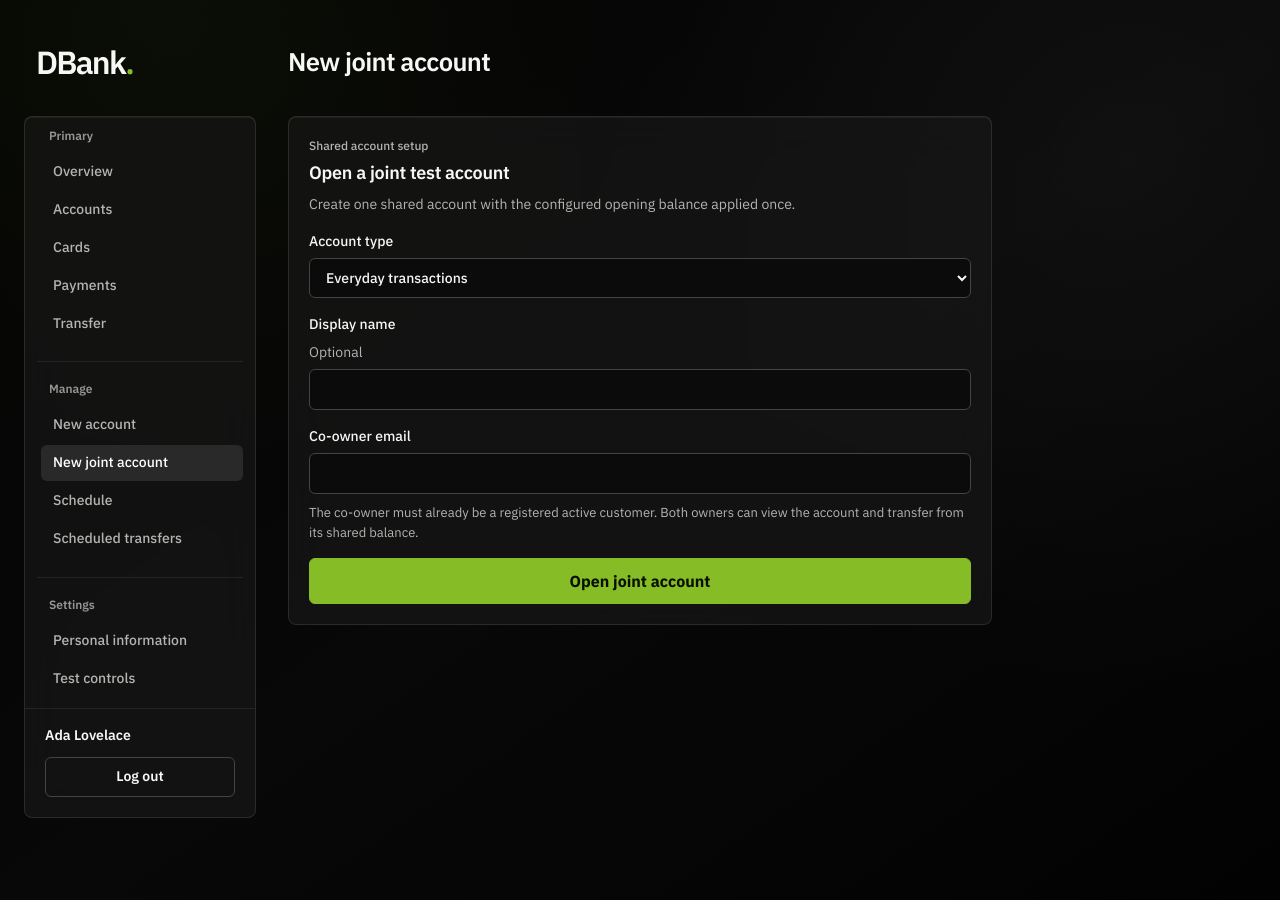
Scenario: Dashboard banking functions › shows an accessible API error and retains joint form values for correction
The width and height of the screenshot is (1280, 900).
Check: the form with test id "joint-account-create-form" is shown, box [309,231,971,604]
In the field with test id "joint-account-create-display-name": (640, 390) [309,369,971,410], type "Household"
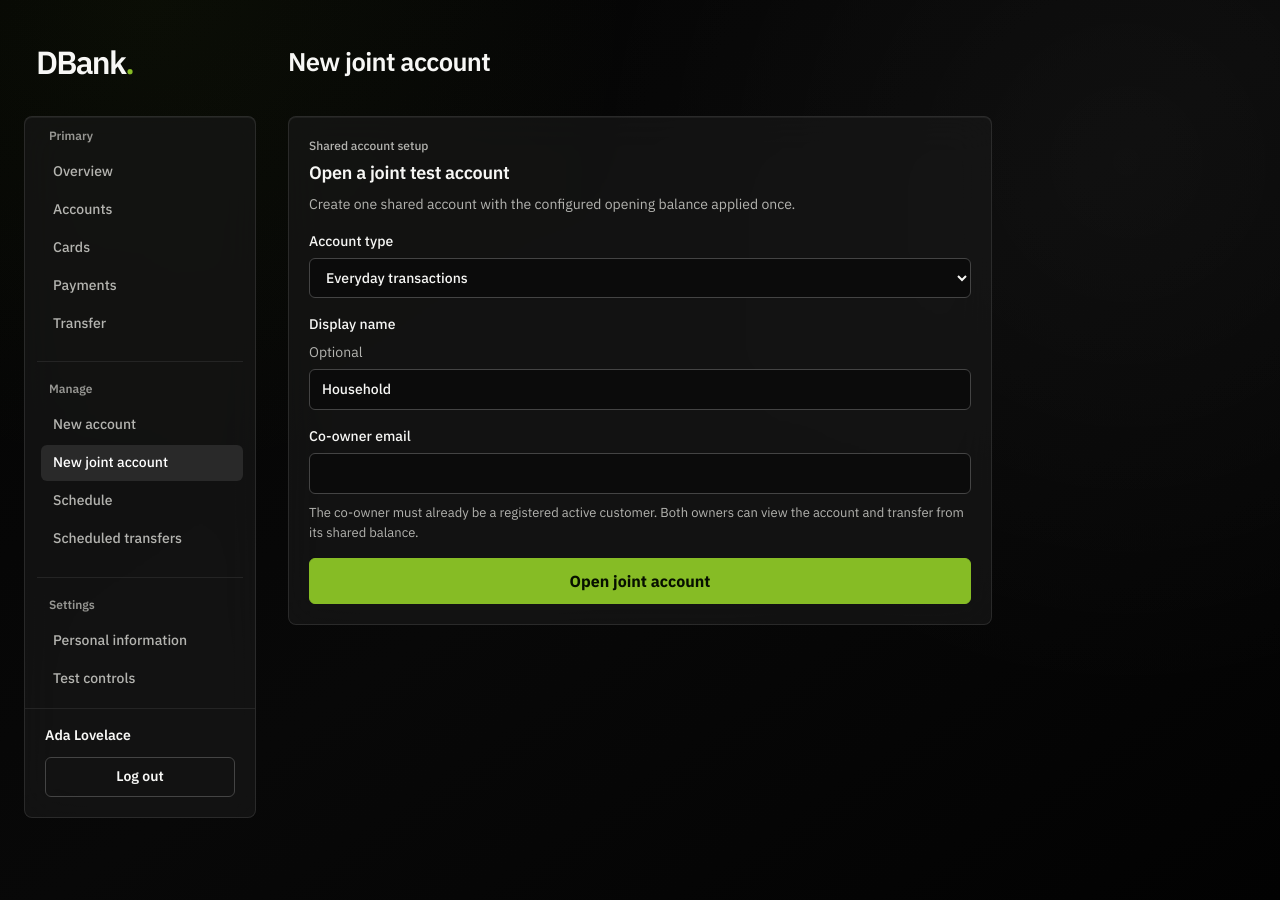
In the field with test id "joint-account-create-co-owner-email": (640, 474) [309,453,971,494], type "missing@example.com"
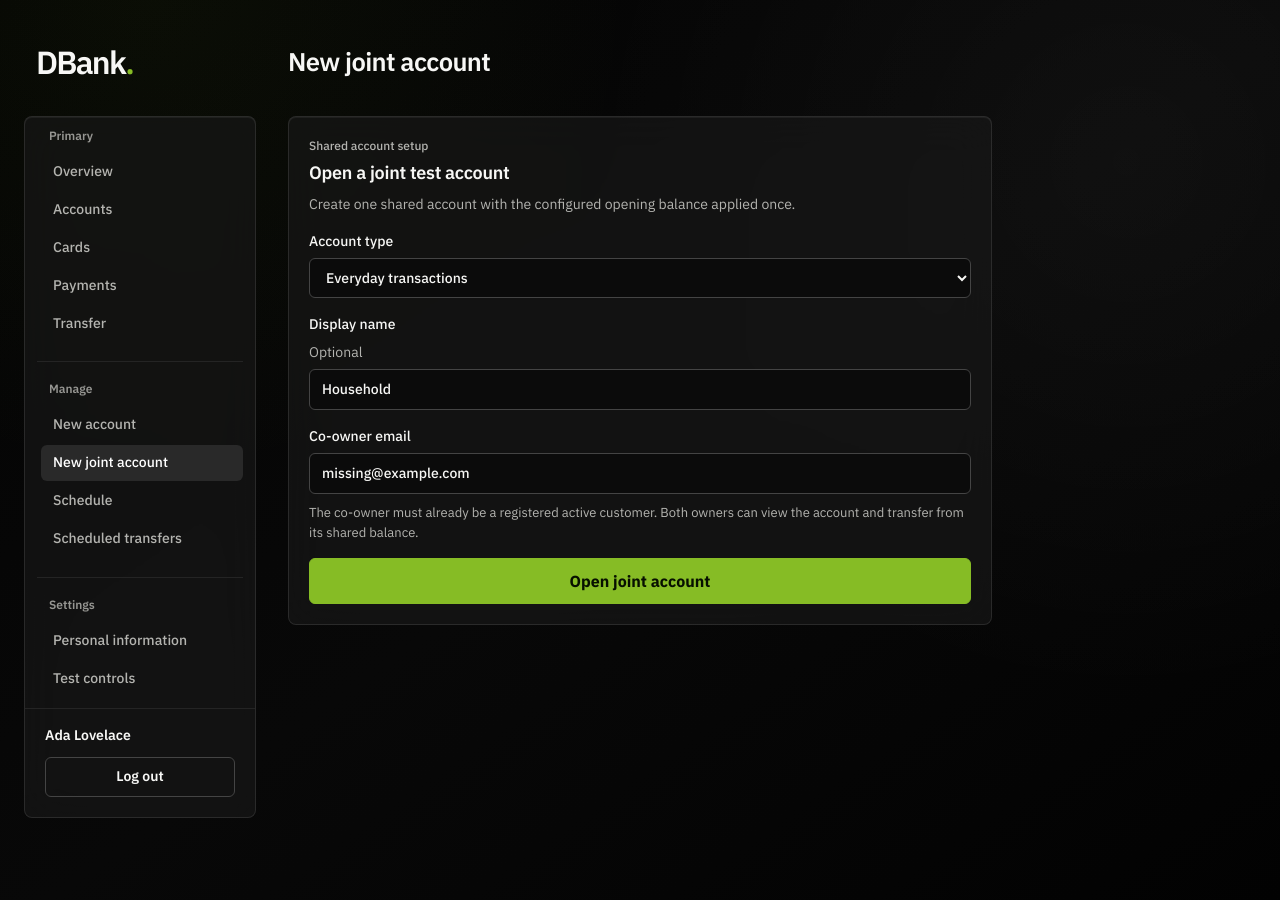
Click the button with test id "joint-account-create-submit": (640, 581) [309,558,971,604]
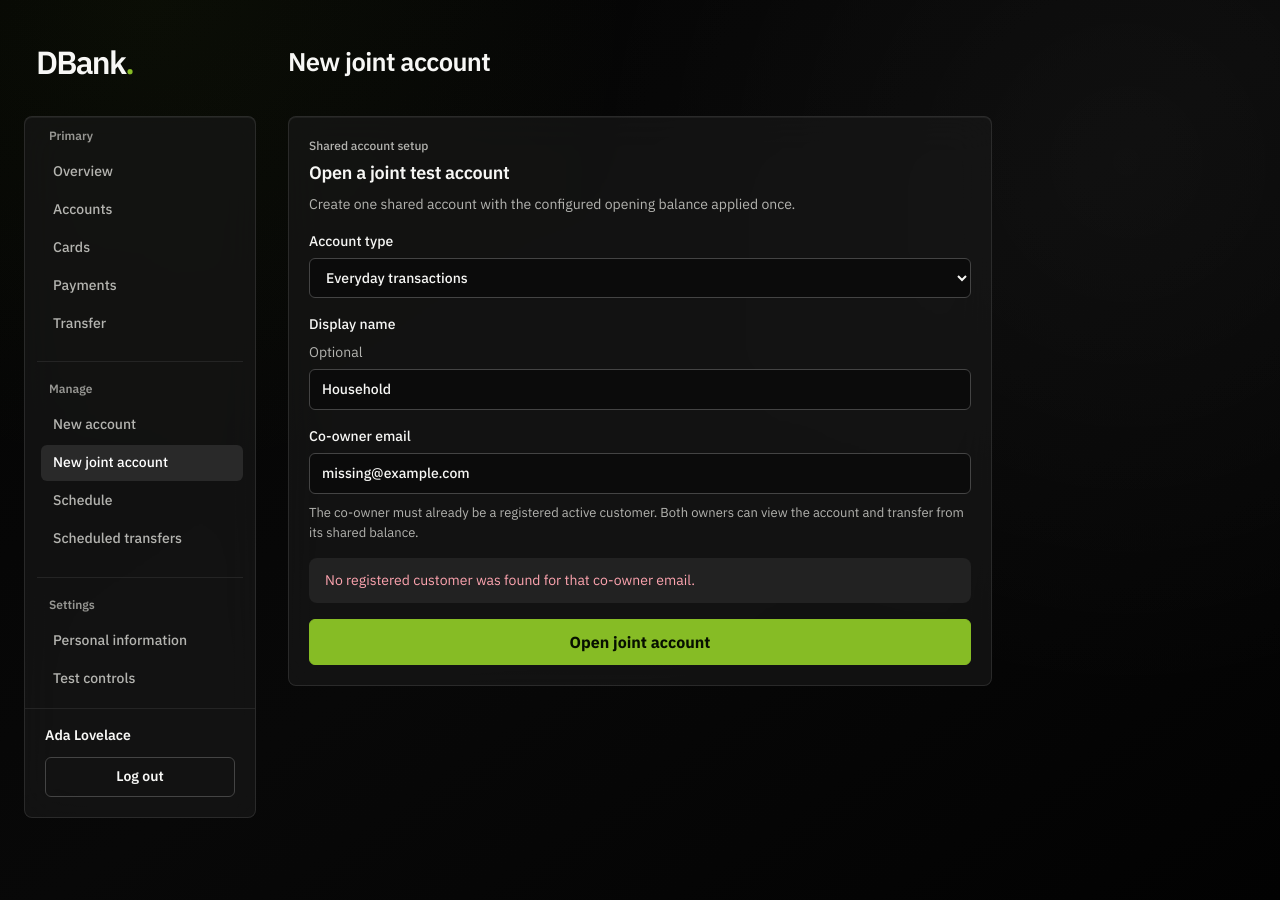
Check: the message shows "No registered customer", box [325,571,695,589]
